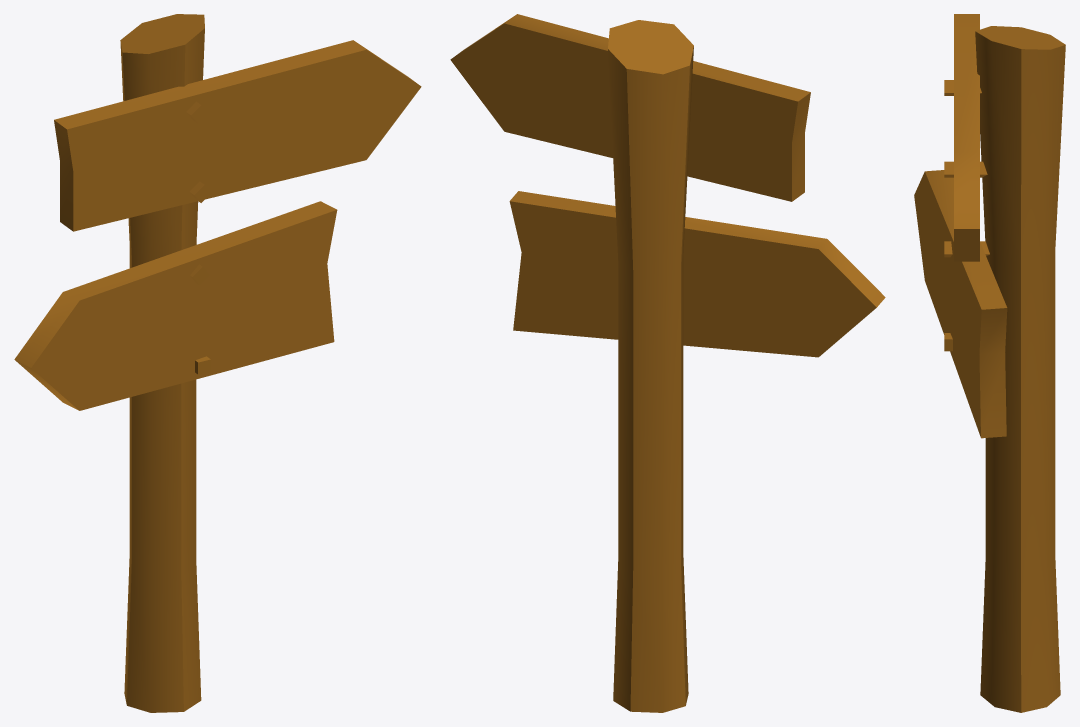
Rendered from sign.glb.
The picture shows the model from 3 angles, left to right: view 1: azimuth 30°, elevation 25°; view 2: azimuth 150°, elevation 25°; view 3: azimuth 270°, elevation 25°; orthographic projection.
Parts seen in each view (by area): view 1: default6_Material_0; view 2: default6_Material_0; view 3: default6_Material_0.
Boxes of the visible parts, <box> form: default6_Material_0: <box>14,14,421,712</box>; default6_Material_0: <box>450,14,885,712</box>; default6_Material_0: <box>914,14,1065,712</box>.
Size of what is drawn, in the model's own units: 1.36 by 2.11 by 0.4354.
